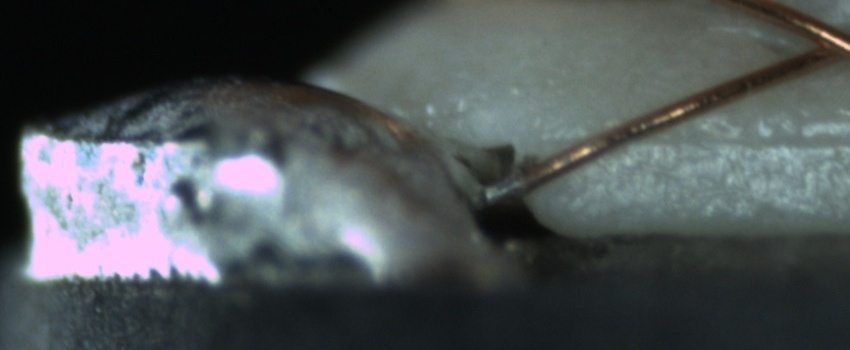CL: (768, 14, 850, 76)
DL: (565, 107, 846, 171)
TS: (479, 168, 527, 203)
